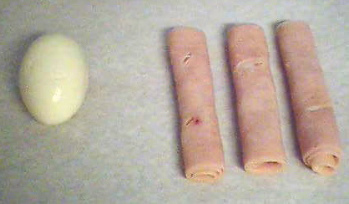egg: (14, 27, 96, 124)
